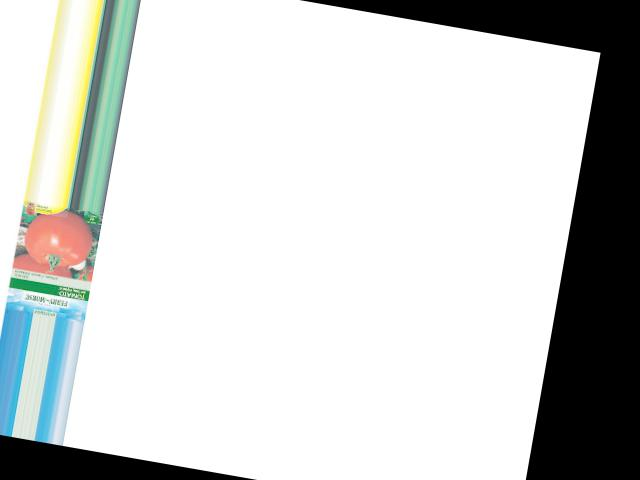tomato: (21, 204, 96, 271)
